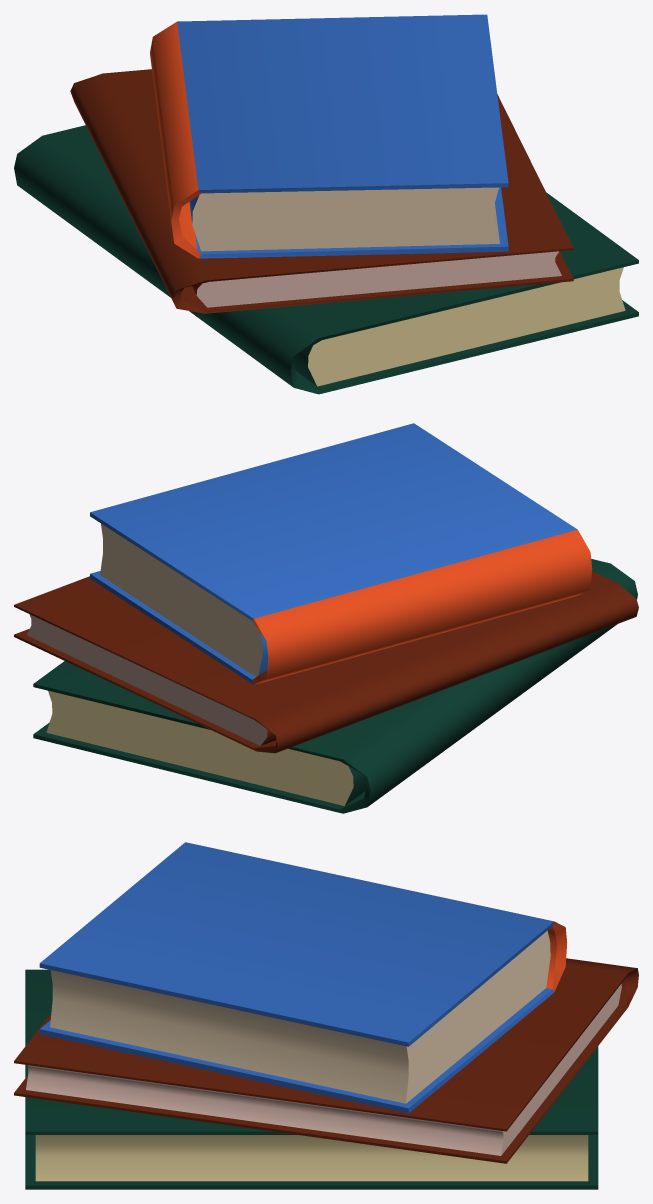
File: books.glb
3 renders of one model, top to bottom at view 1: azimuth 30°, elevation 25°; view 2: azimuth 150°, elevation 25°; view 3: azimuth 270°, elevation 25°, orthographic. The views are drawn at different scales.
Parts seen in each view (by area): view 1: Cube; view 2: Cube; view 3: Cube.
Boxes of the visible parts, x1,y1,x2,y2 form: Cube: (14,14,638,394); Cube: (14,423,638,813); Cube: (14,842,638,1189).
Size of the model in its own units: 2.95 by 0.9451 by 3.26.
